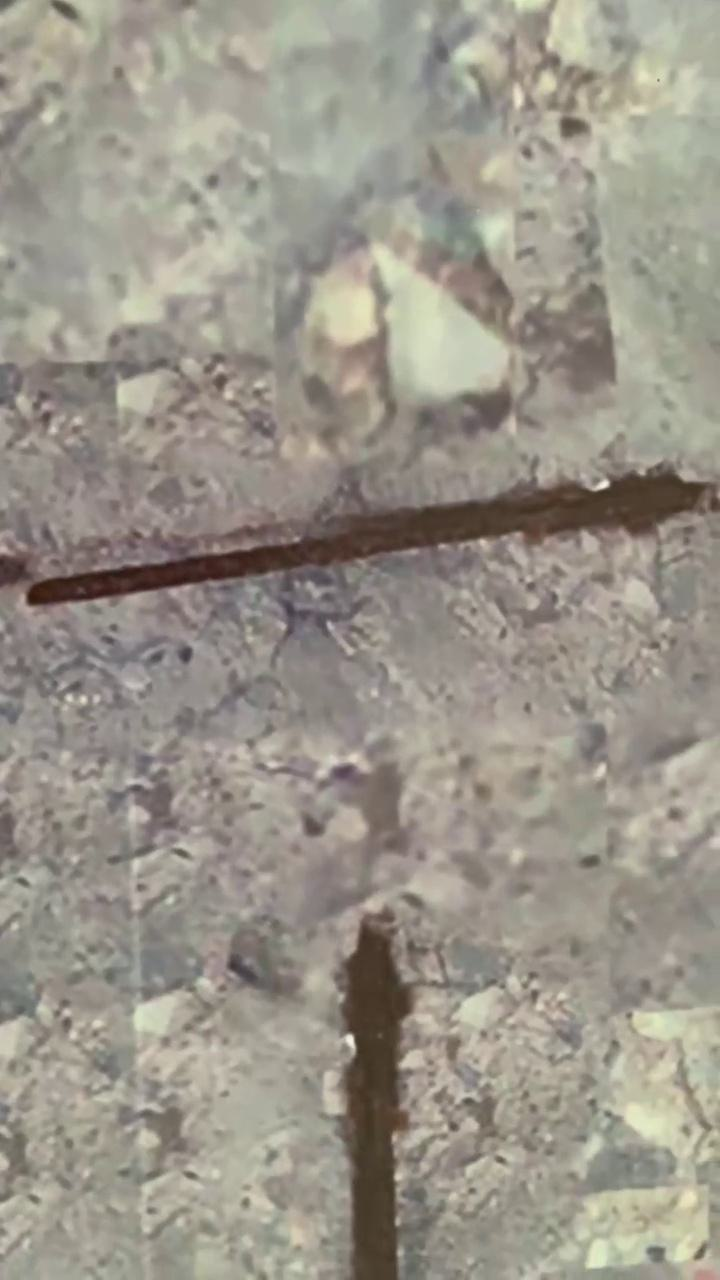Exposed reinforcement: (24, 476, 713, 607), (336, 914, 412, 1280)
